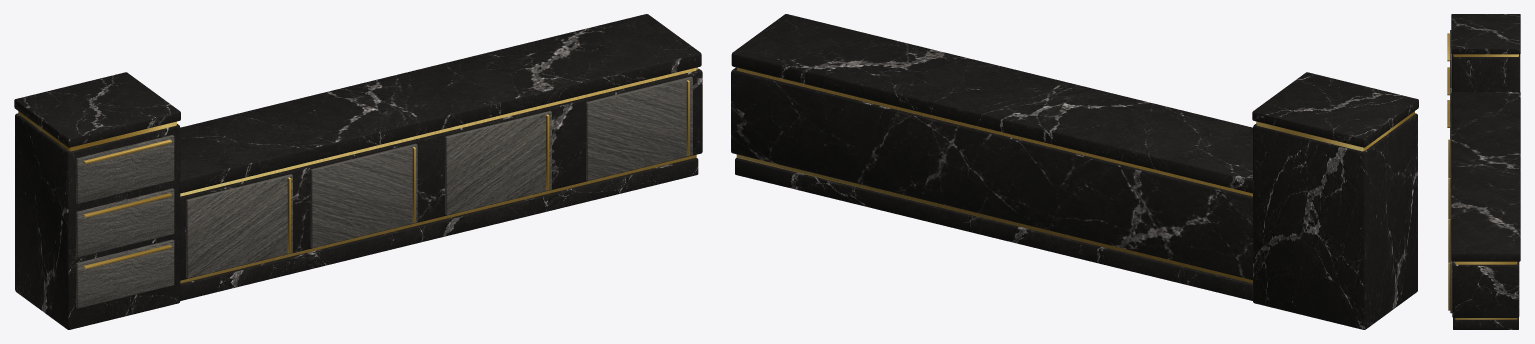
The model's file is TV stand.fbx.
3 views of the same model, side by side, from view 1: azimuth 30°, elevation 25°; view 2: azimuth 150°, elevation 25°; view 3: azimuth 270°, elevation 25° (orthographic). The views are drawn at different scales.
Parts seen in each view (by area): view 1: Top_Panel, Left_Tall_Cabinet.001, Main_Cabinet_Body.001, Bottom_Panel, Lower_Door_Left.002, Lower_Door_Left.004, Lower_Door_Left.003, Lower_Door_Left.001, Left_Cabinet_Top, Left_Door_1.003, Left_Door_1.002, Left_Door_1.004 (+2 smaller); view 2: Main_Cabinet_Body.001, Top_Panel, Left_Tall_Cabinet.001, Bottom_Panel, Left_Cabinet_Top, Main_Cabinet_Body, Left_Tall_Cabinet; view 3: Top_Panel, Main_Cabinet_Body.001, Left_Cabinet_Top, Left_Tall_Cabinet.001, Bottom_Panel, Main_Cabinet_Body, Lower_Door_Left.001, Left_Tall_Cabinet, Vertical_Trim_2.003, Vertical_Trim_2.002, Vertical_Trim_2.001, Vertical_Trim_2 (+7 smaller).
Part boxes in pixels (left/top/right/bottom): Top_Panel: left=179, top=14, right=701, bottom=193; Left_Tall_Cabinet.001: left=15, top=113, right=180, bottom=329; Main_Cabinet_Body.001: left=180, top=67, right=702, bottom=280; Bottom_Panel: left=180, top=157, right=698, bottom=300; Lower_Door_Left.002: left=310, top=143, right=417, bottom=248; Lower_Door_Left.004: left=445, top=111, right=551, bottom=215; Lower_Door_Left.003: left=186, top=174, right=292, bottom=278; Lower_Door_Left.001: left=586, top=76, right=692, bottom=180; Left_Cabinet_Top: left=14, top=72, right=180, bottom=147; Left_Door_1.003: left=76, top=188, right=174, bottom=257; Left_Door_1.002: left=76, top=135, right=174, bottom=203; Left_Door_1.004: left=76, top=239, right=174, bottom=308; Main_Cabinet_Body.001: left=731, top=67, right=1252, bottom=280; Top_Panel: left=731, top=14, right=1253, bottom=193; Left_Tall_Cabinet.001: left=1253, top=113, right=1417, bottom=329; Bottom_Panel: left=735, top=157, right=1252, bottom=300; Left_Cabinet_Top: left=1252, top=72, right=1418, bottom=147; Main_Cabinet_Body: left=736, top=67, right=1252, bottom=283; Left_Tall_Cabinet: left=1256, top=111, right=1414, bottom=151; Top_Panel: left=1451, top=92, right=1520, bottom=261; Main_Cabinet_Body.001: left=1452, top=261, right=1519, bottom=317; Left_Cabinet_Top: left=1451, top=14, right=1520, bottom=54; Left_Tall_Cabinet.001: left=1452, top=54, right=1520, bottom=91; Bottom_Panel: left=1453, top=317, right=1518, bottom=329; Main_Cabinet_Body: left=1454, top=261, right=1517, bottom=319; Lower_Door_Left.001: left=1450, top=231, right=1452, bottom=313; Left_Tall_Cabinet: left=1453, top=54, right=1518, bottom=56; Vertical_Trim_2.003: left=1448, top=262, right=1450, bottom=310; Vertical_Trim_2.002: left=1448, top=219, right=1450, bottom=262; Vertical_Trim_2.001: left=1448, top=178, right=1450, bottom=219; Vertical_Trim_2: left=1448, top=139, right=1450, bottom=177.
Size of the model in its own units: 282 by 81.55 by 44.5.
Materials: 14 (14 with a texture image).
